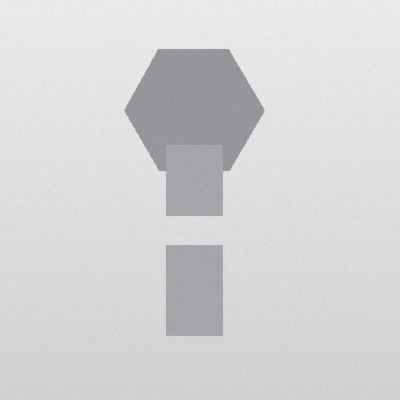broken: (154, 210, 234, 250)
